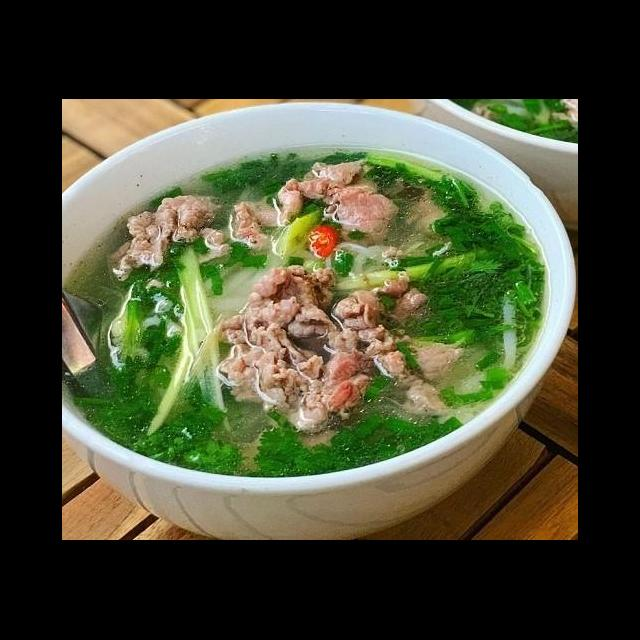thit bo: (314, 271, 434, 424), (212, 294, 334, 438), (330, 286, 468, 394), (101, 188, 236, 288), (290, 152, 407, 245), (242, 260, 342, 344), (222, 172, 307, 258)
